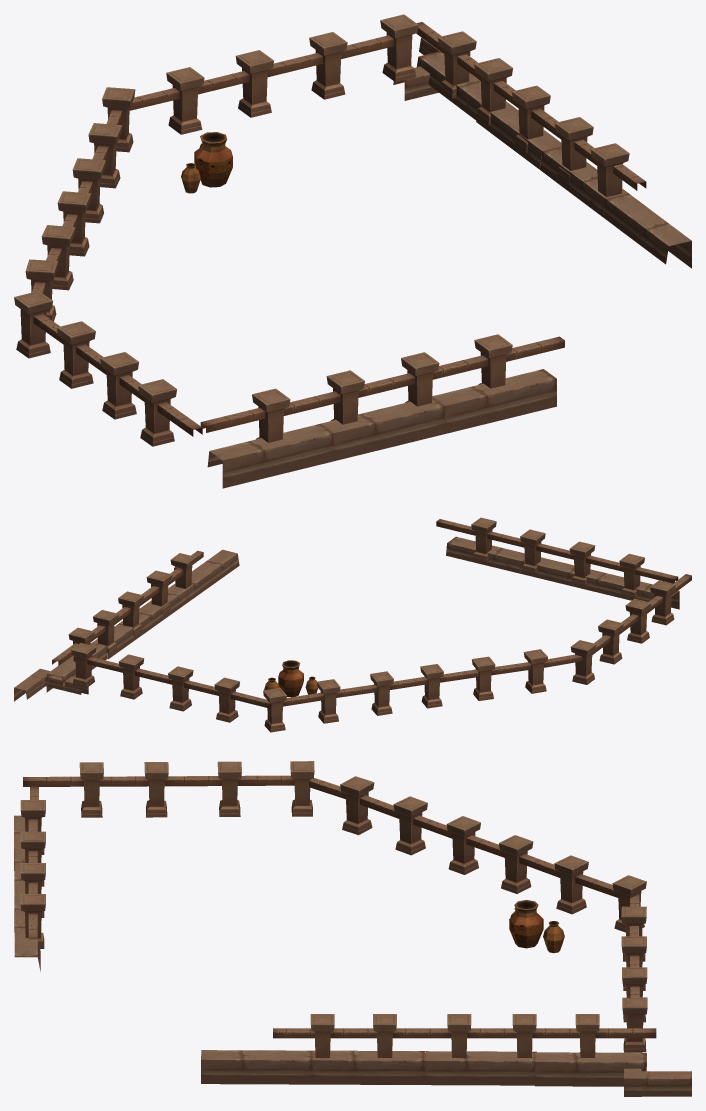
Rendered from Area_08_14.fbx.
3 views of the same model, one above another, from view 1: azimuth 30°, elevation 25°; view 2: azimuth 150°, elevation 25°; view 3: azimuth 270°, elevation 25° (orthographic). The views are drawn at different scales.
Parts seen in each view (by area): view 1: Area_08_14; view 2: Area_08_14; view 3: Area_08_14.
Boxes of the visible parts, <box> form: Area_08_14: <box>14,14,691,488</box>; Area_08_14: <box>14,517,691,732</box>; Area_08_14: <box>14,761,691,1096</box>.
Bounding box in the file's own units: 1988 × 218 × 2095.
